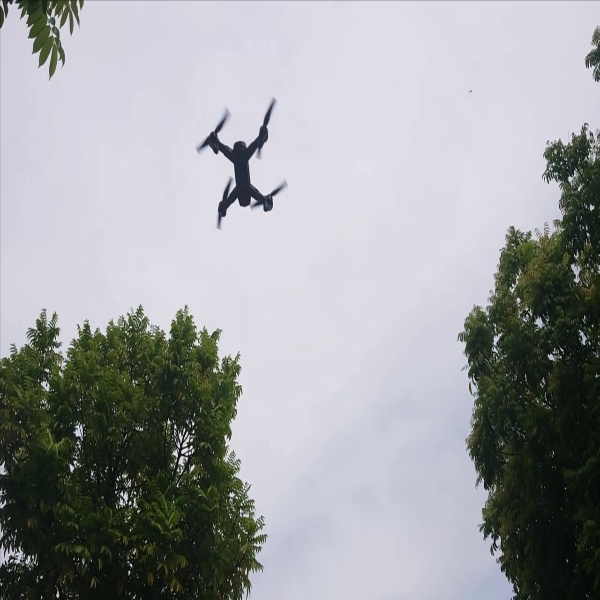drone: (188, 91, 296, 234)
